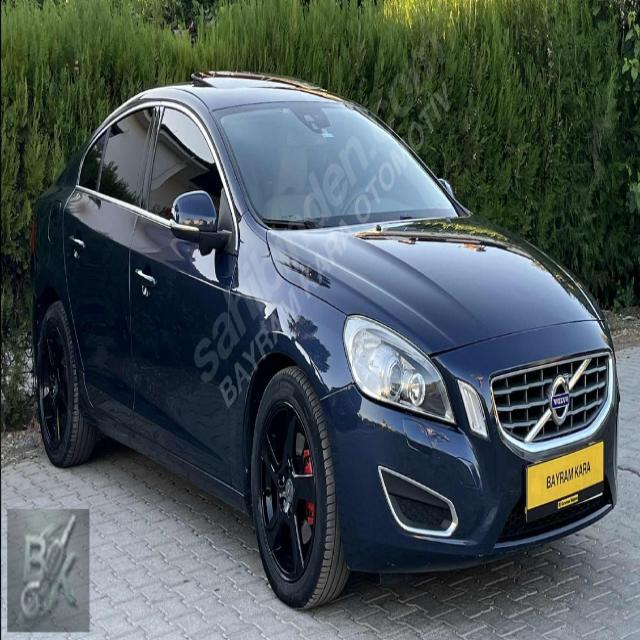volvo: (546, 373, 571, 427)
